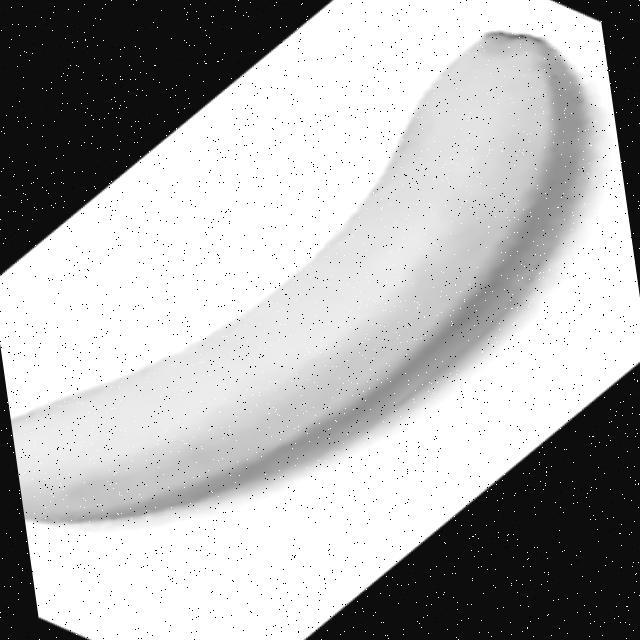Ripe: (0, 6, 640, 539)
